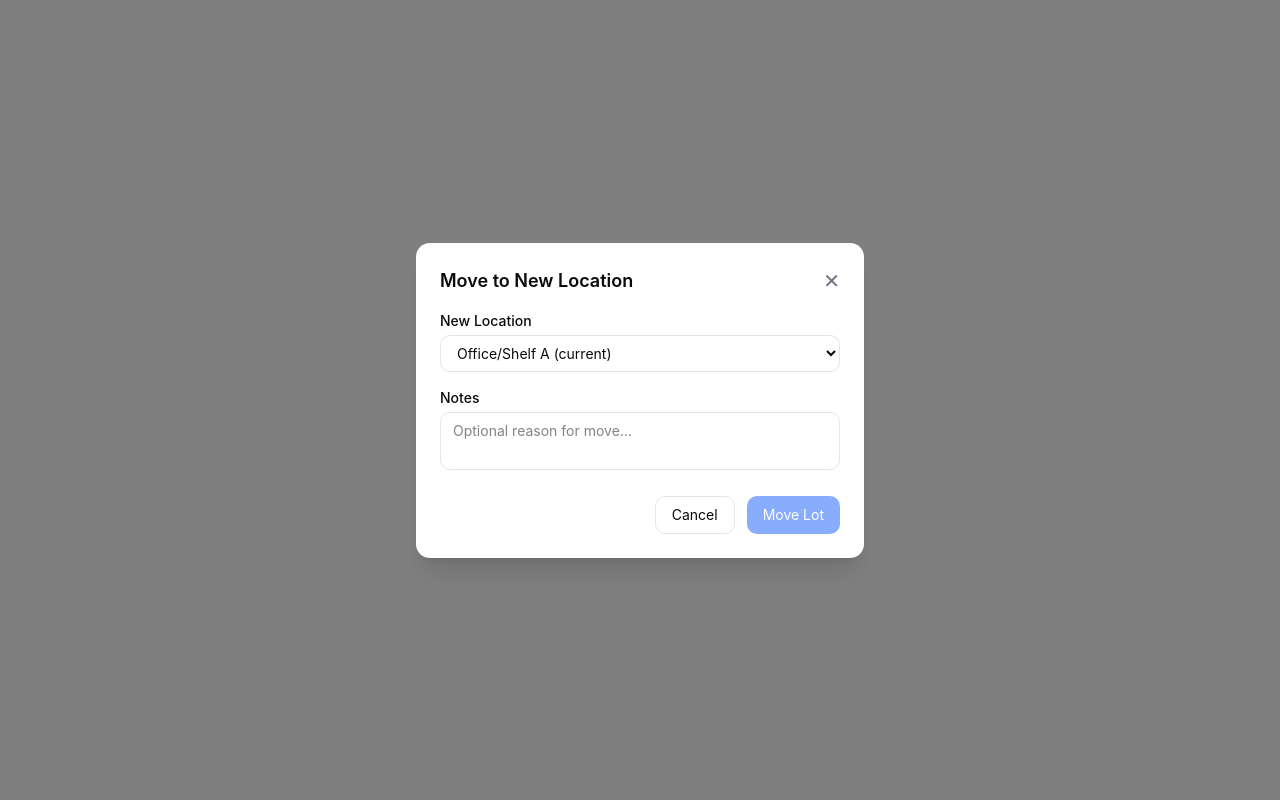
Test: MoveModal › submit failure › shows fallback error when no message in response
Select "Office/Shelf A/Drawer 1" in the dropdown at (640, 353), box x1=440 y1=334 x2=840 y2=372
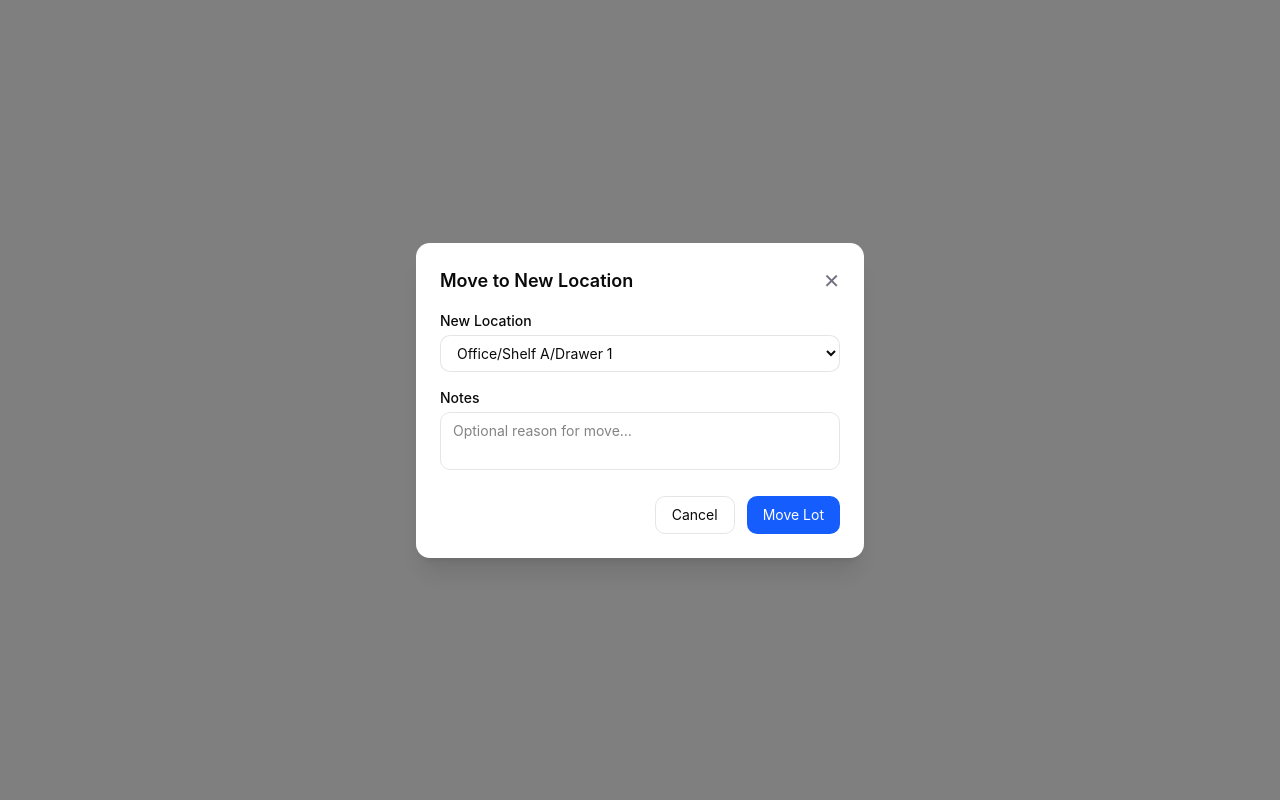
Click the button "Move Lot" at (793, 514), box x1=747 y1=496 x2=840 y2=534
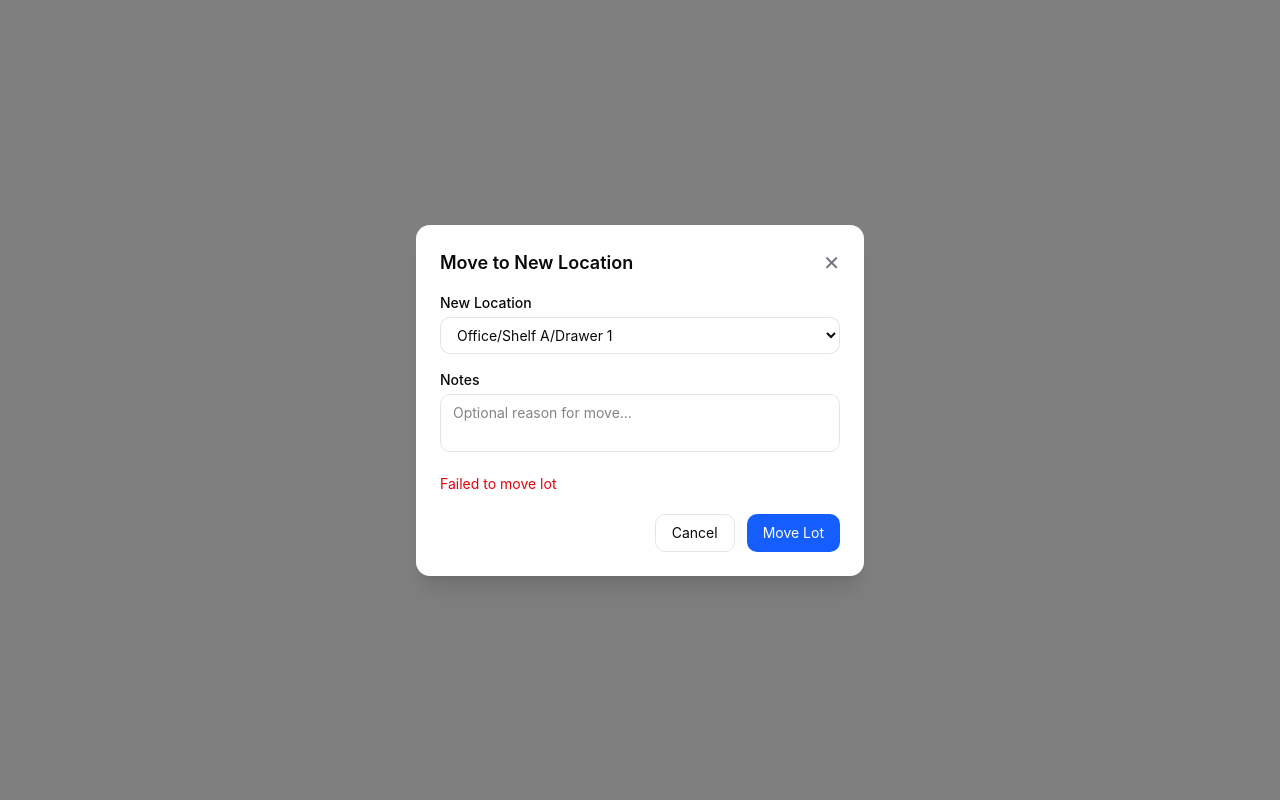
Expected: the text "Failed to move lot" is shown, x1=440 y1=474 x2=556 y2=492
